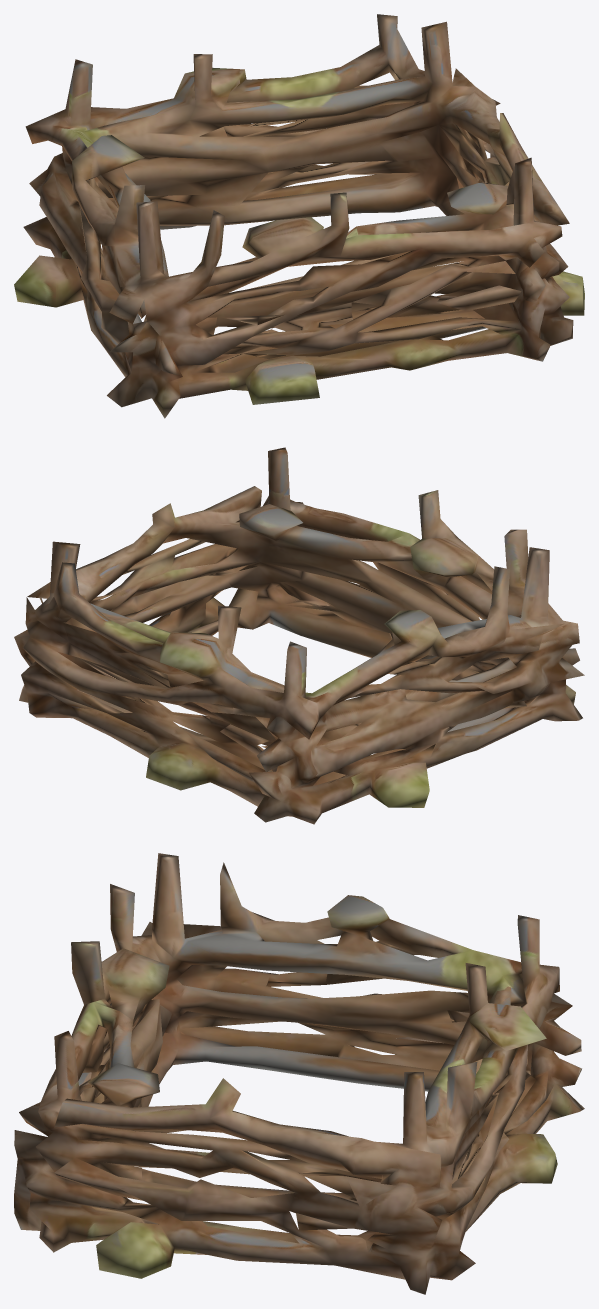
Rendered from aphid_pen.glb.
3 renders of one model, top to bottom at view 1: azimuth 30°, elevation 25°; view 2: azimuth 150°, elevation 25°; view 3: azimuth 270°, elevation 25°, orthographic. The views are drawn at different scales.
Parts seen in each view (by area): view 1: tripo_node_242fbac8-5145-455b-9524-7d924148bdf6; view 2: tripo_node_242fbac8-5145-455b-9524-7d924148bdf6; view 3: tripo_node_242fbac8-5145-455b-9524-7d924148bdf6.
Boxes of the visible parts, box(x1,y1,x2,y2) form: tripo_node_242fbac8-5145-455b-9524-7d924148bdf6: box(14, 14, 584, 418); tripo_node_242fbac8-5145-455b-9524-7d924148bdf6: box(14, 447, 584, 824); tripo_node_242fbac8-5145-455b-9524-7d924148bdf6: box(14, 853, 584, 1294).
Size of the model in its own units: 1.01 by 0.3689 by 0.9284.
1 material, 1 textured.
